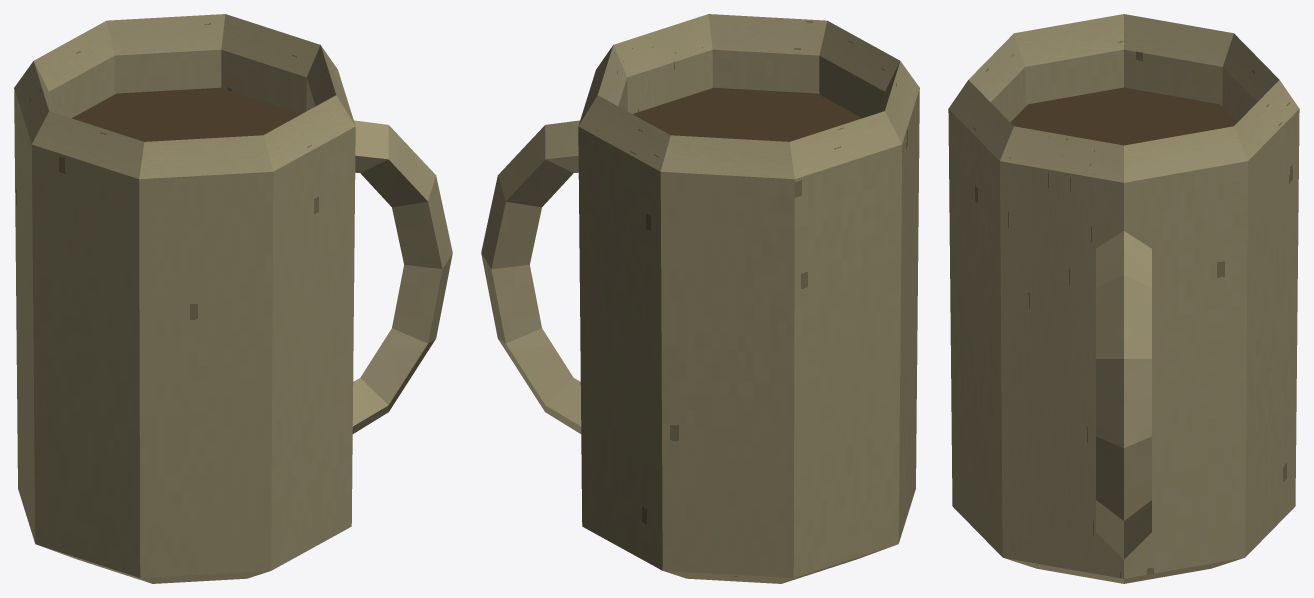
The model's file is mug.glb.
3 renders of one model, left to right at view 1: azimuth 30°, elevation 25°; view 2: azimuth 150°, elevation 25°; view 3: azimuth 270°, elevation 25°, orthographic.
Parts seen in each view (by area): view 1: Detail_HollowStonewareMug, Detail_CeramicHandle, Detail_CoffeeInside; view 2: Detail_HollowStonewareMug, Detail_CeramicHandle, Detail_CoffeeInside; view 3: Detail_HollowStonewareMug, Detail_CeramicHandle, Detail_CoffeeInside.
Part boxes in pixels (x1,y1,x2,y2): Detail_HollowStonewareMug: [14, 14, 355, 583]; Detail_CeramicHandle: [352, 120, 452, 433]; Detail_CoffeeInside: [72, 87, 301, 141]; Detail_HollowStonewareMug: [578, 14, 919, 583]; Detail_CeramicHandle: [481, 120, 581, 433]; Detail_CoffeeInside: [632, 87, 861, 141]; Detail_HollowStonewareMug: [948, 14, 1299, 583]; Detail_CeramicHandle: [1096, 231, 1151, 559]; Detail_CoffeeInside: [1010, 87, 1237, 145].
Bounding box in the file's own units: 0.121 × 0.125 × 0.088.
Materials: 2 (1 with a texture image).
